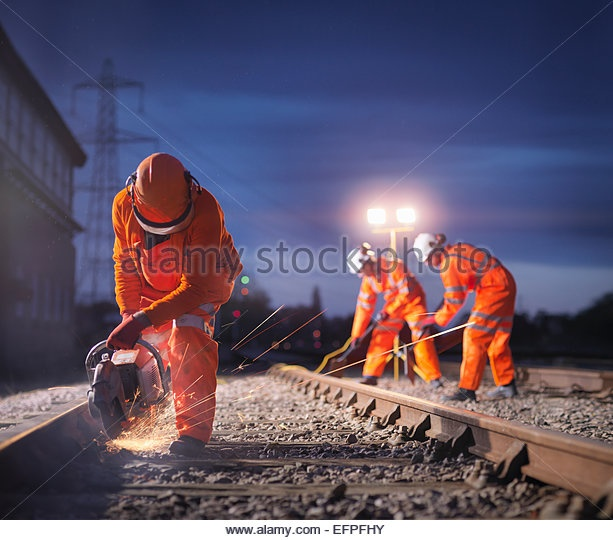white: (410, 230, 451, 270), (344, 243, 379, 282)
